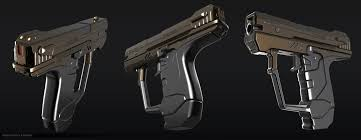gun: (243, 8, 351, 130), (125, 7, 229, 130), (11, 15, 109, 128)
